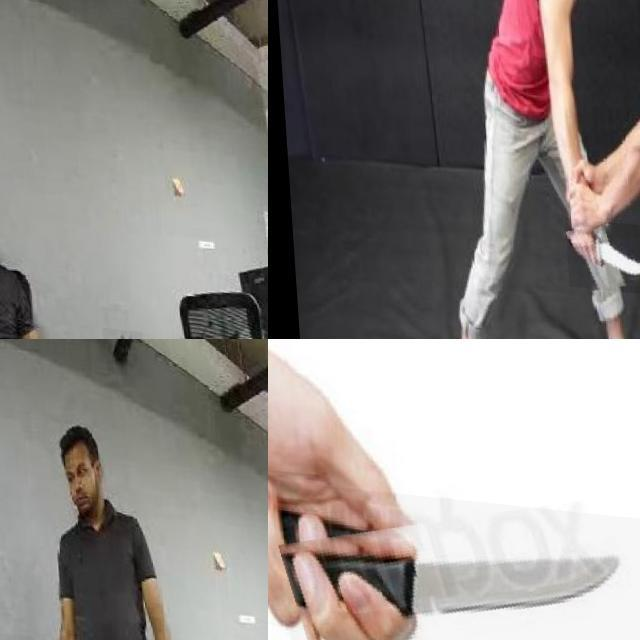-: (276, 476, 640, 640), (559, 211, 640, 287), (96, 320, 140, 339)
